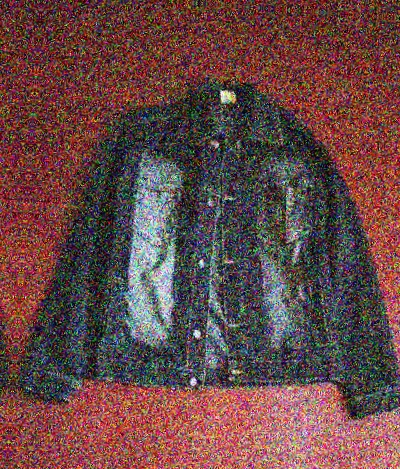Blazer: (24, 55, 400, 450), (0, 25, 22, 419)
